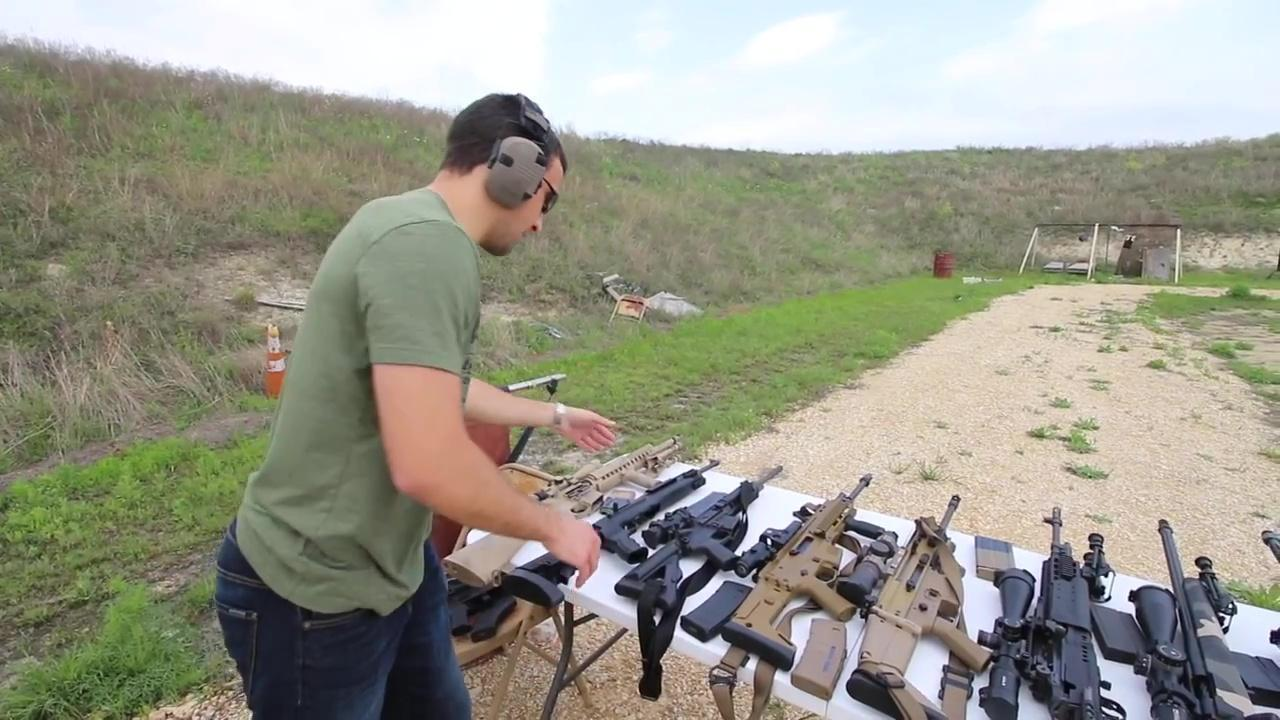Gun: (497, 446, 737, 611), (446, 431, 689, 588), (835, 484, 993, 718), (974, 487, 1130, 720), (714, 469, 875, 675), (1120, 514, 1274, 720), (614, 457, 791, 609)
